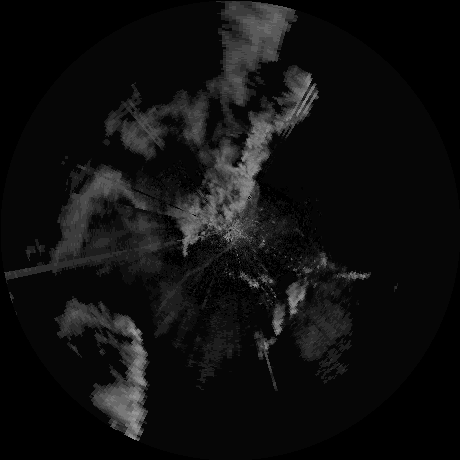frontgust: (190, 184, 262, 279)
